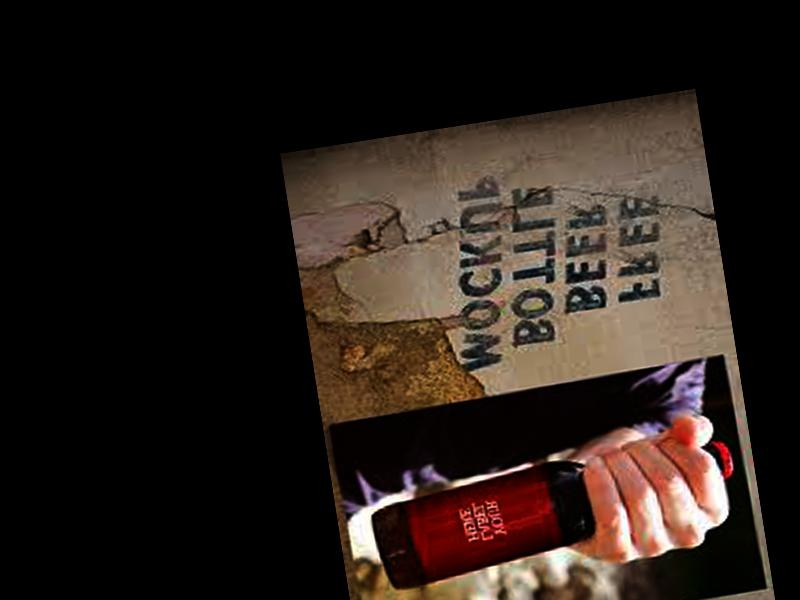Beer: (367, 437, 743, 592)
